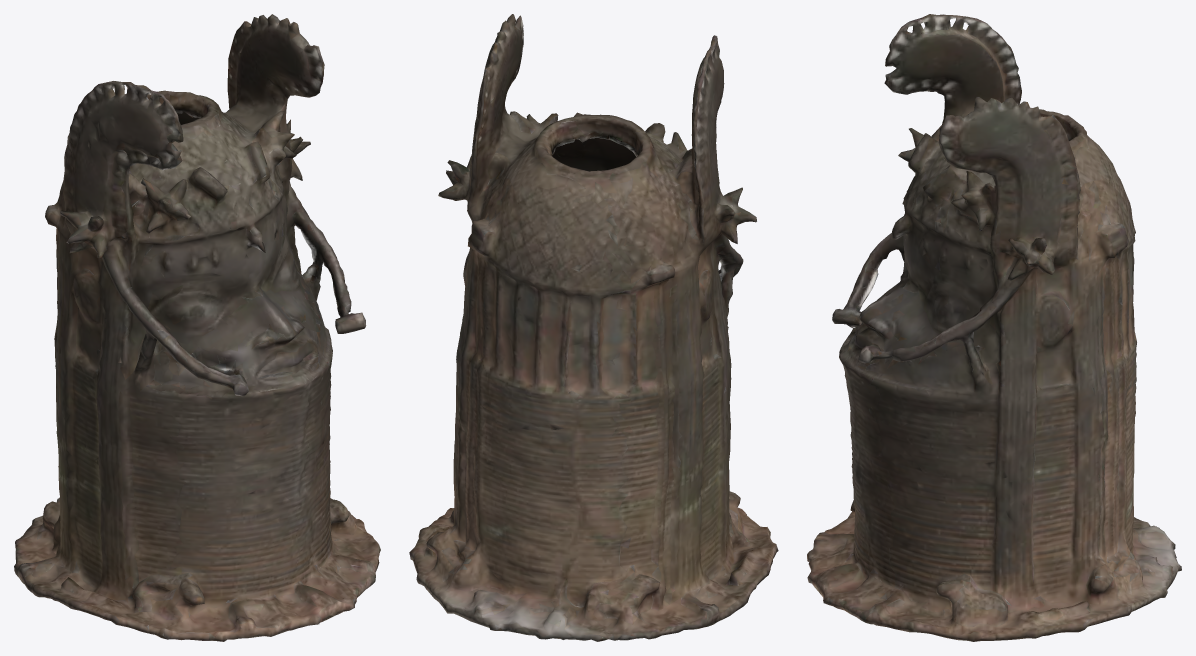
File: preview.glb
3 views of the same model, side by side, from view 1: azimuth 30°, elevation 25°; view 2: azimuth 150°, elevation 25°; view 3: azimuth 270°, elevation 25° (orthographic).
Visible parts, largest first — view 1: Object_2; view 2: Object_2; view 3: Object_2.
Part boxes in pixels (x1,y1,x2,y2): Object_2: [14, 14, 380, 641]; Object_2: [409, 14, 778, 641]; Object_2: [807, 14, 1181, 641].
Size of the model in its own units: 21.81 by 35.08 by 22.93.
Materials: 1 (1 with a texture image).
